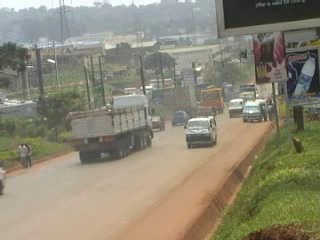Car: (169, 108, 189, 126), (150, 112, 165, 135)
